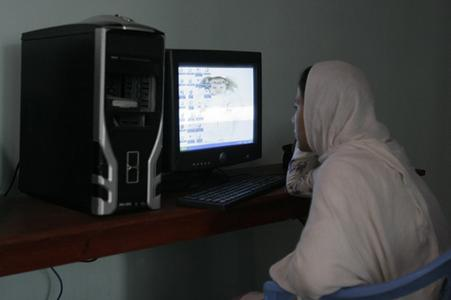person: (264, 59, 441, 300)
